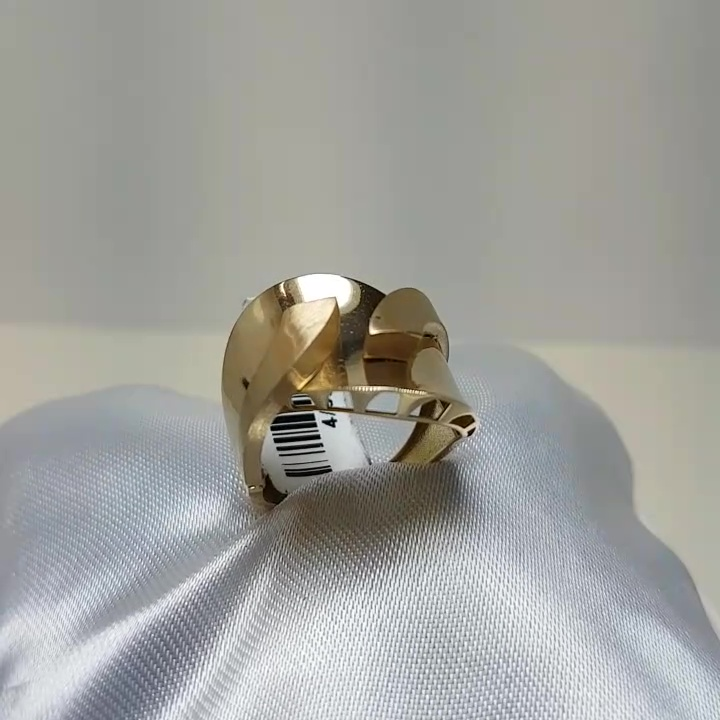Ring 4: (202, 260, 486, 535)
